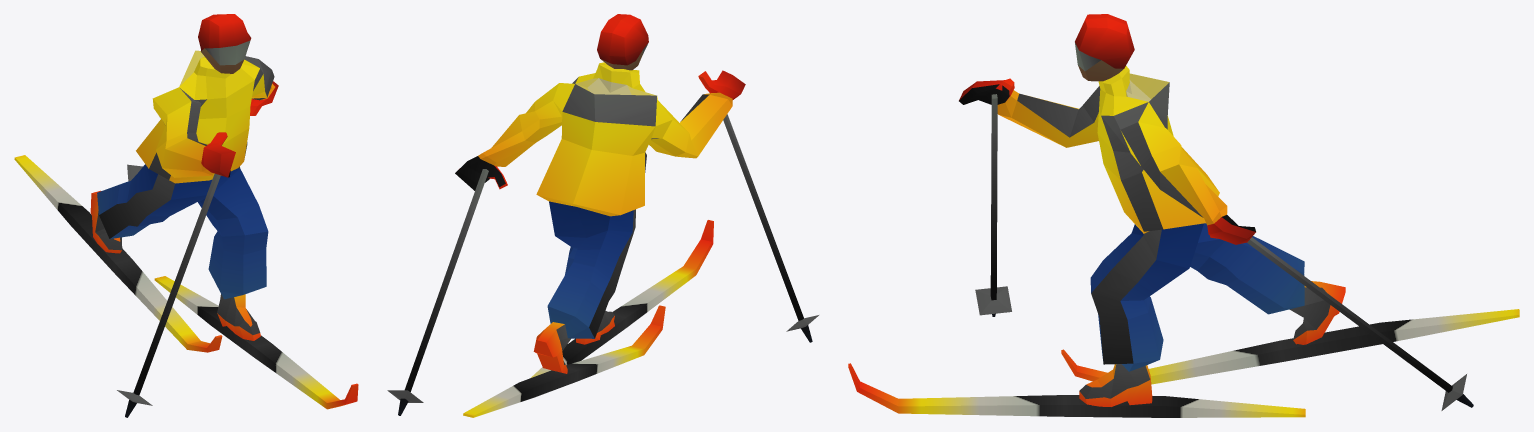
Rendered from skier_low_poly_character.glb.
3 renders of one model, left to right at view 1: azimuth 30°, elevation 25°; view 2: azimuth 150°, elevation 25°; view 3: azimuth 270°, elevation 25°, orthographic. The views are drawn at different scales.
Visible parts, largest first — view 1: skier.001; view 2: skier.001; view 3: skier.001.
Part boxes in pixels (x1=…): skier.001: x1=14, y1=14, x2=358, y2=417; skier.001: x1=387, y1=14, x2=818, y2=417; skier.001: x1=848, y1=14, x2=1519, y2=417.
Size of the model in its own units: 5.18 by 6.38 by 10.14.
Materials: 1 (1 with a texture image).
